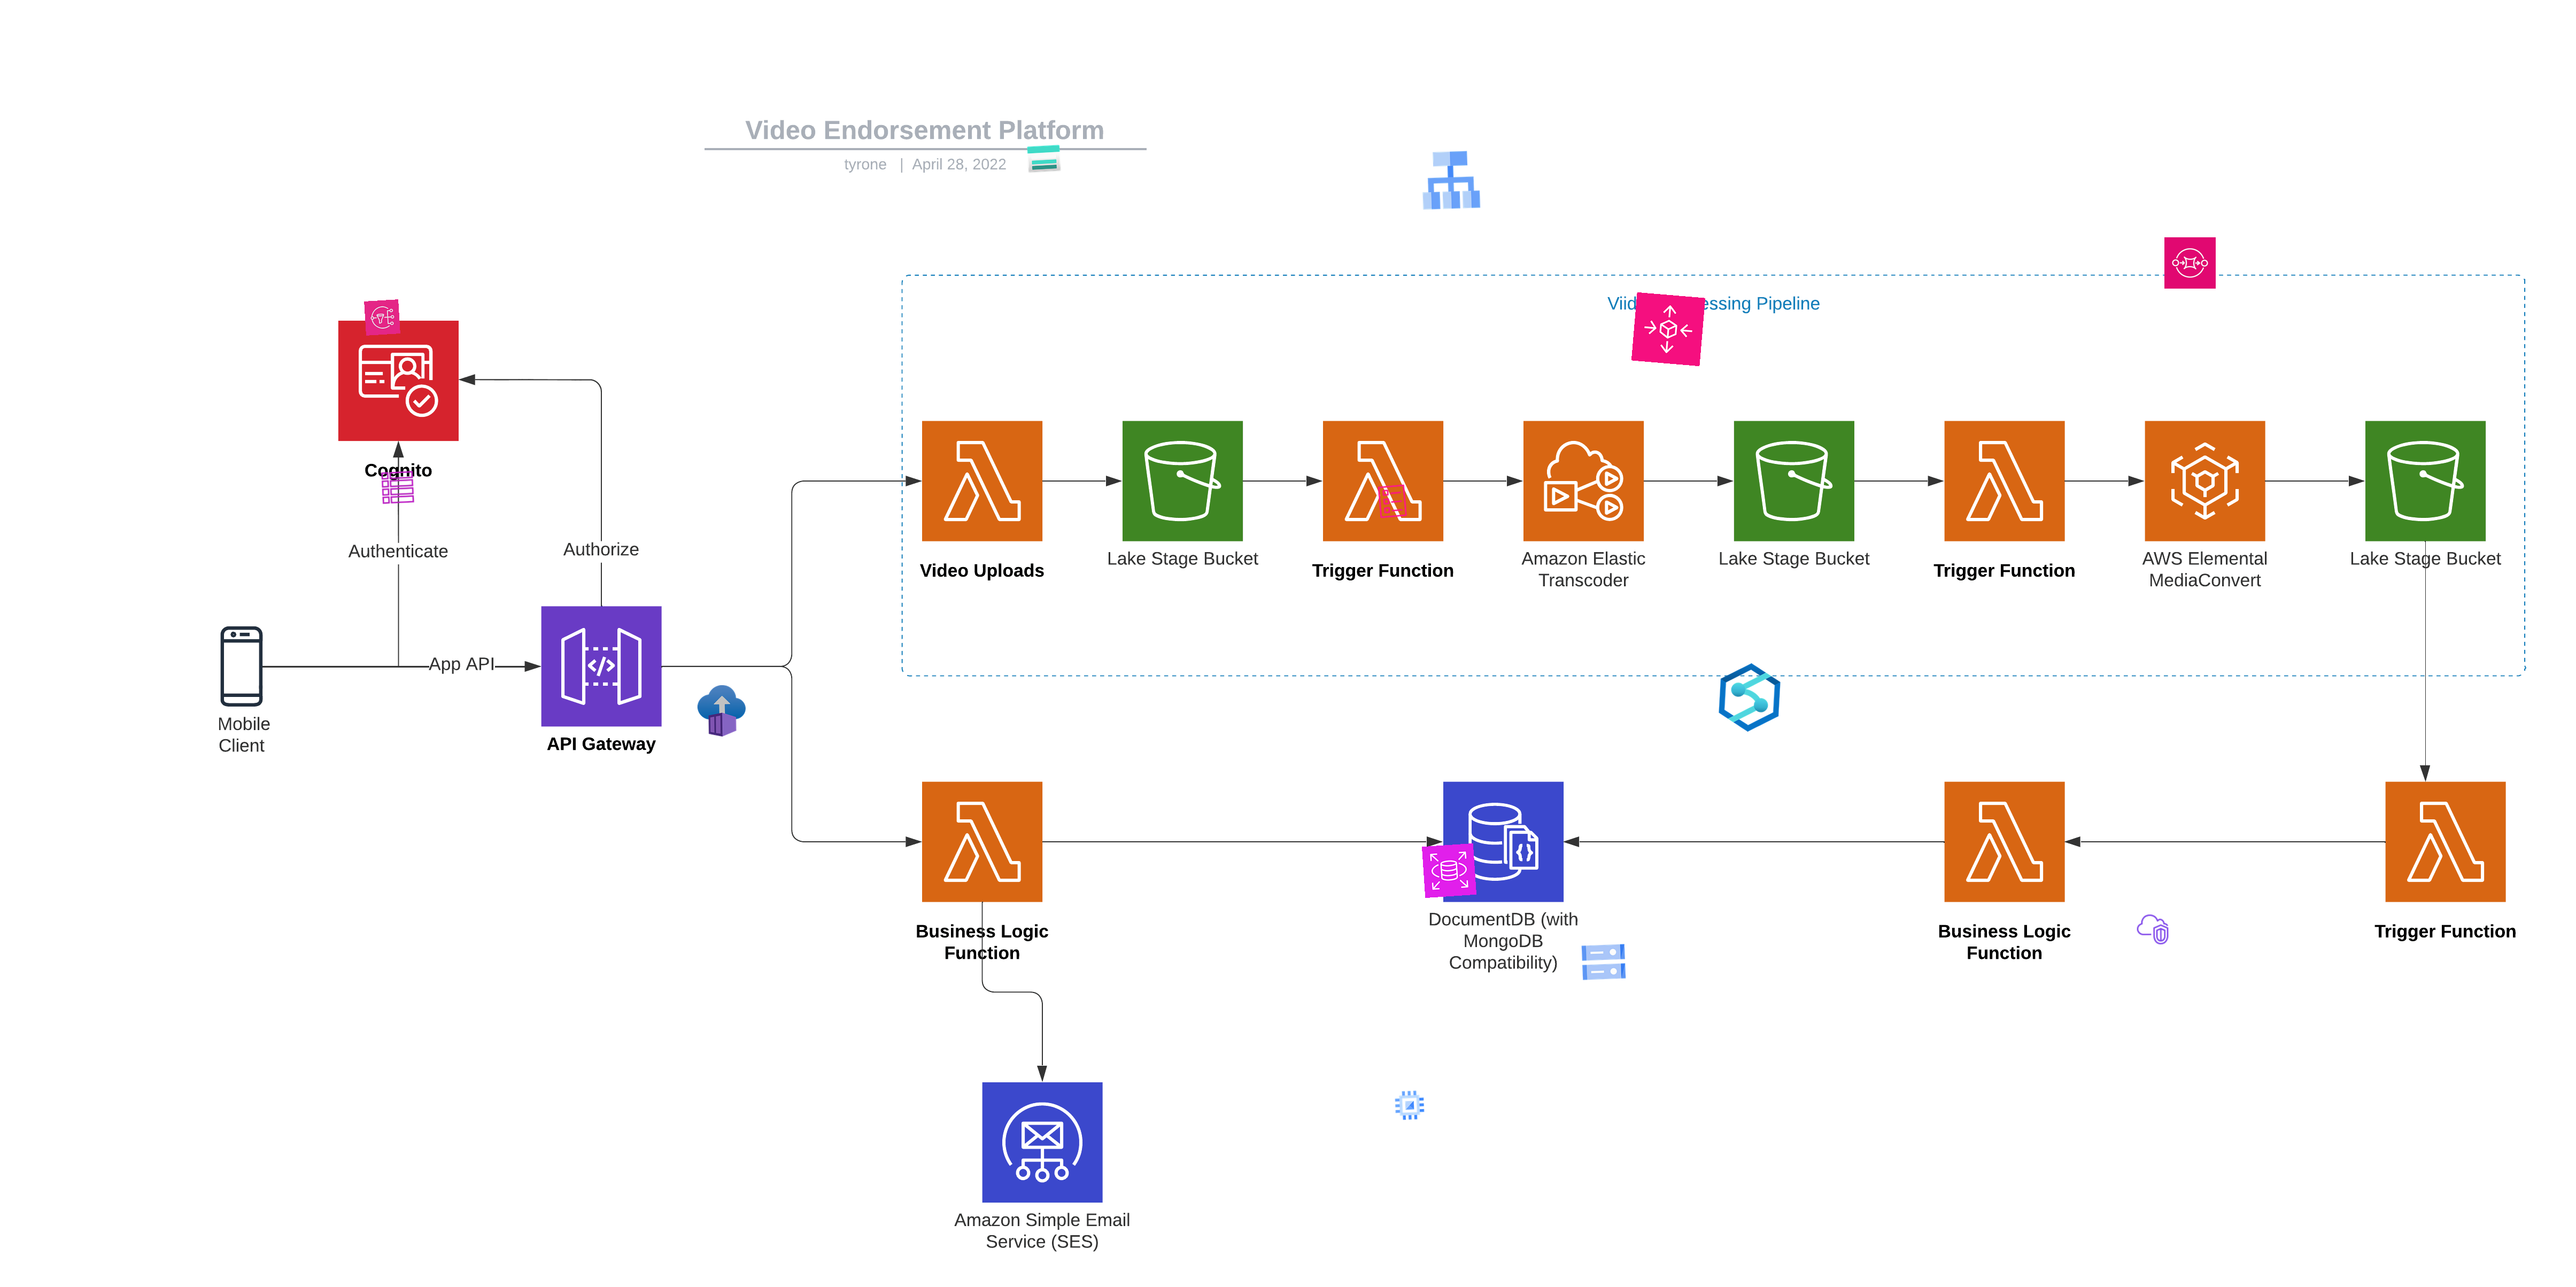aws_amazon_rds: (1421, 842, 1477, 898)
aws_amazon_simple_notification_service: (365, 299, 401, 335)
aws_amazon_simple_queue_service: (2164, 236, 2216, 289)
aws_auto_scaling: (1631, 292, 1705, 366)
aws_cloudformation_template: (1373, 483, 1411, 520)
aws_dynamodb_table: (380, 469, 416, 506)
aws_vpc_virtual_private_cloud_vpc: (2136, 911, 2170, 947)
azure_container_instances: (695, 685, 748, 737)
azure_storage_accounts: (1025, 141, 1063, 177)
azure_synapse_analytics: (1714, 662, 1786, 734)
gcp_cloud_load_balancing: (1415, 144, 1487, 217)
gcp_cloud_storage: (1577, 936, 1630, 988)
gcp_compute_engine: (1392, 1087, 1428, 1123)
